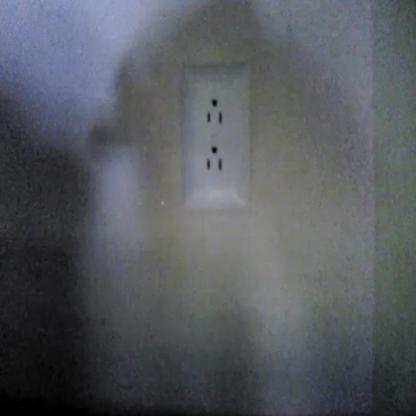OUTLET: (183, 66, 250, 211)
